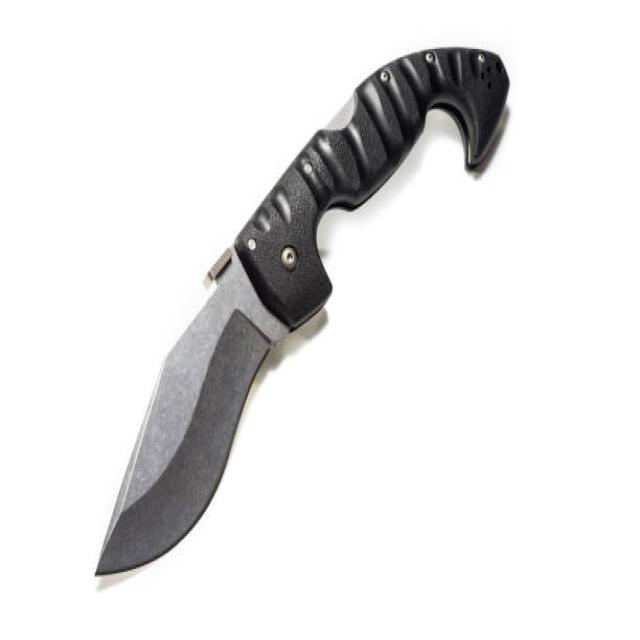knife: (85, 39, 520, 590)
